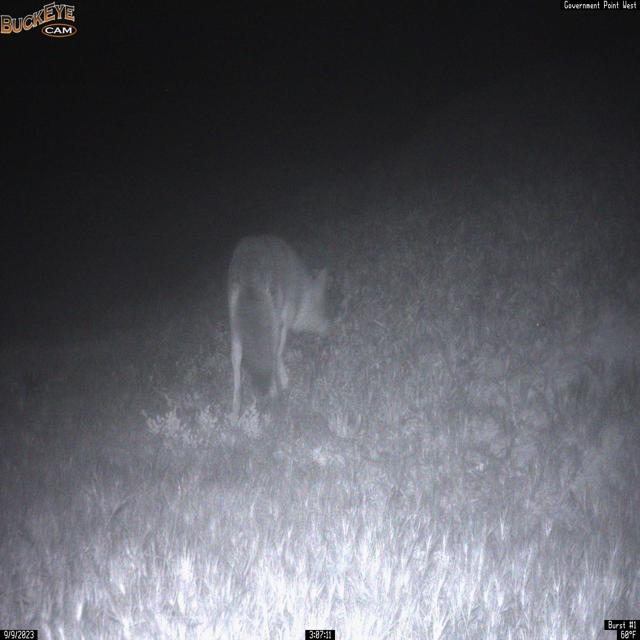coyote: (227, 233, 334, 423)
